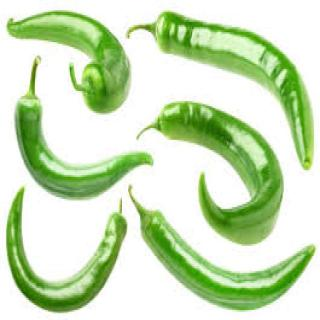Cabai Hijau: (149, 11, 318, 171), (138, 210, 320, 312), (12, 86, 157, 204), (9, 190, 131, 313), (7, 18, 132, 106)
